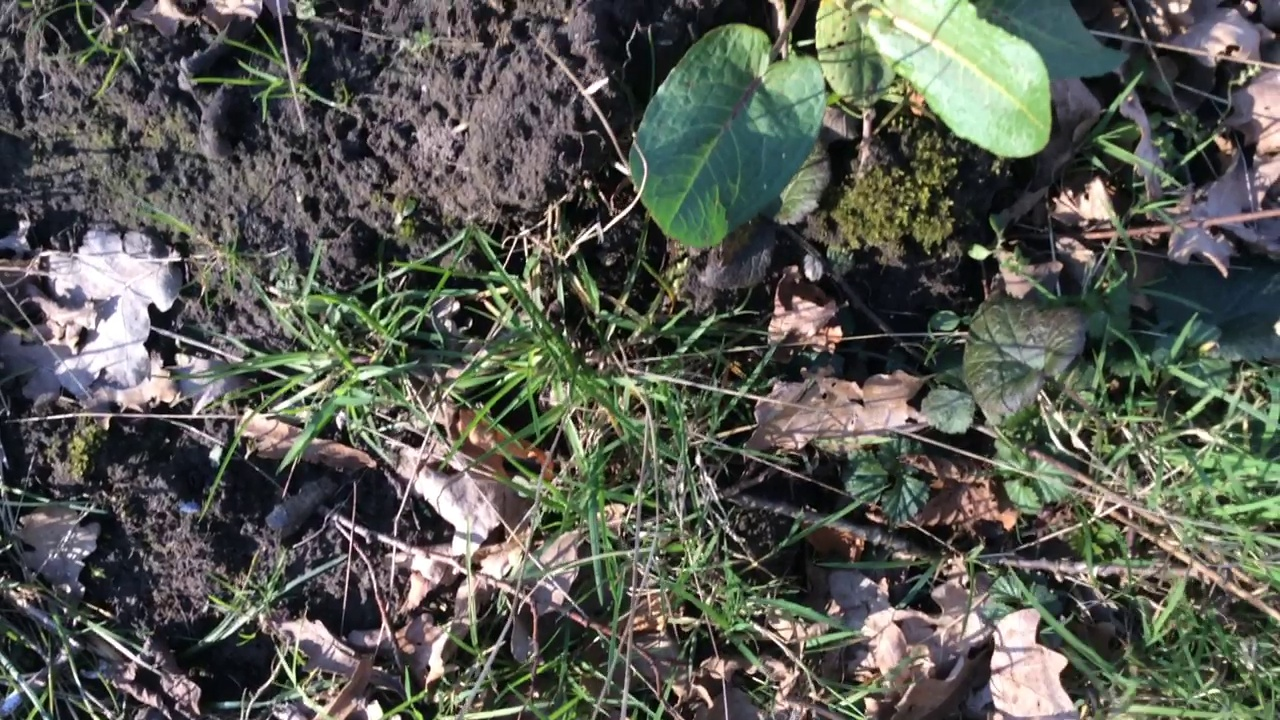rumex: (627, 1, 1128, 250)
